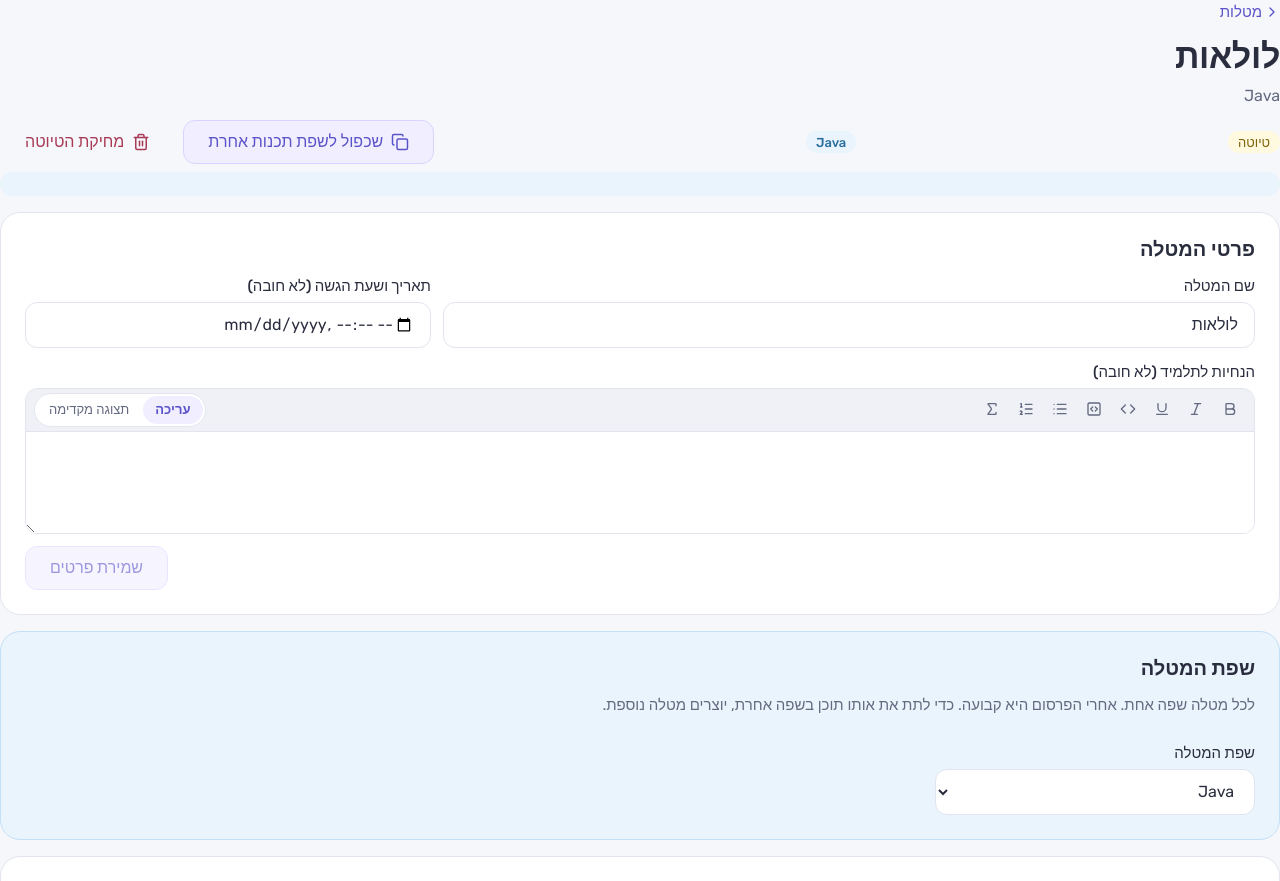
C3 — clone to another programming language › only other course languages are offered; success creates a draft and navigates to it with a toast
What coordinates should you click on to do the following:
click the button "שכפול לשפת תכנות אחרת"
I would click on:
 (309, 142)
Its box is [183, 120, 434, 164].
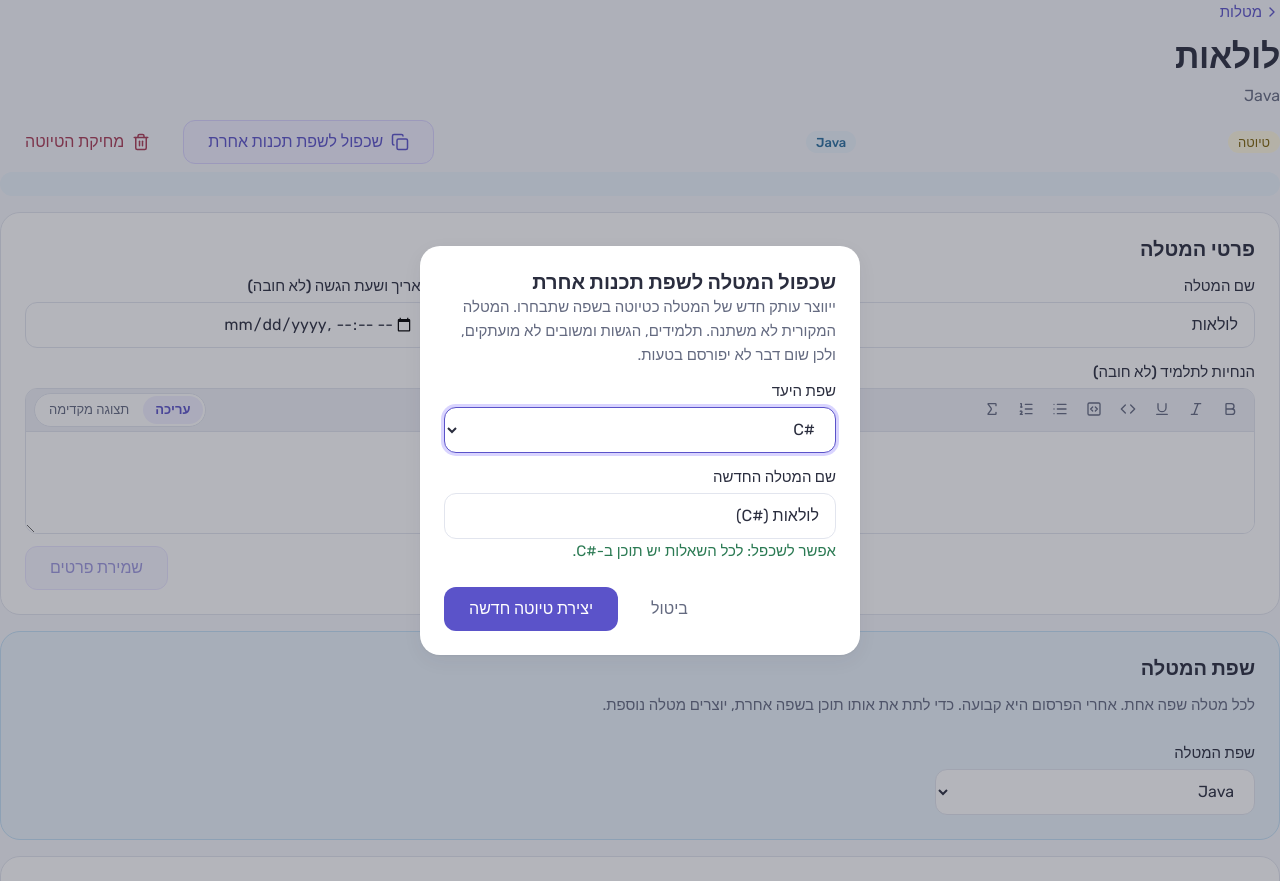
Now the text "אפשר לשכפל: לכל השאלות יש תוכן ב- C# ." is shown, box [573, 542, 836, 560]
What coordinates should you click on to do the following:
click the button "יצירת טיוטה חדשה"
I would click on:
 (531, 608)
Its box is [444, 586, 618, 630].
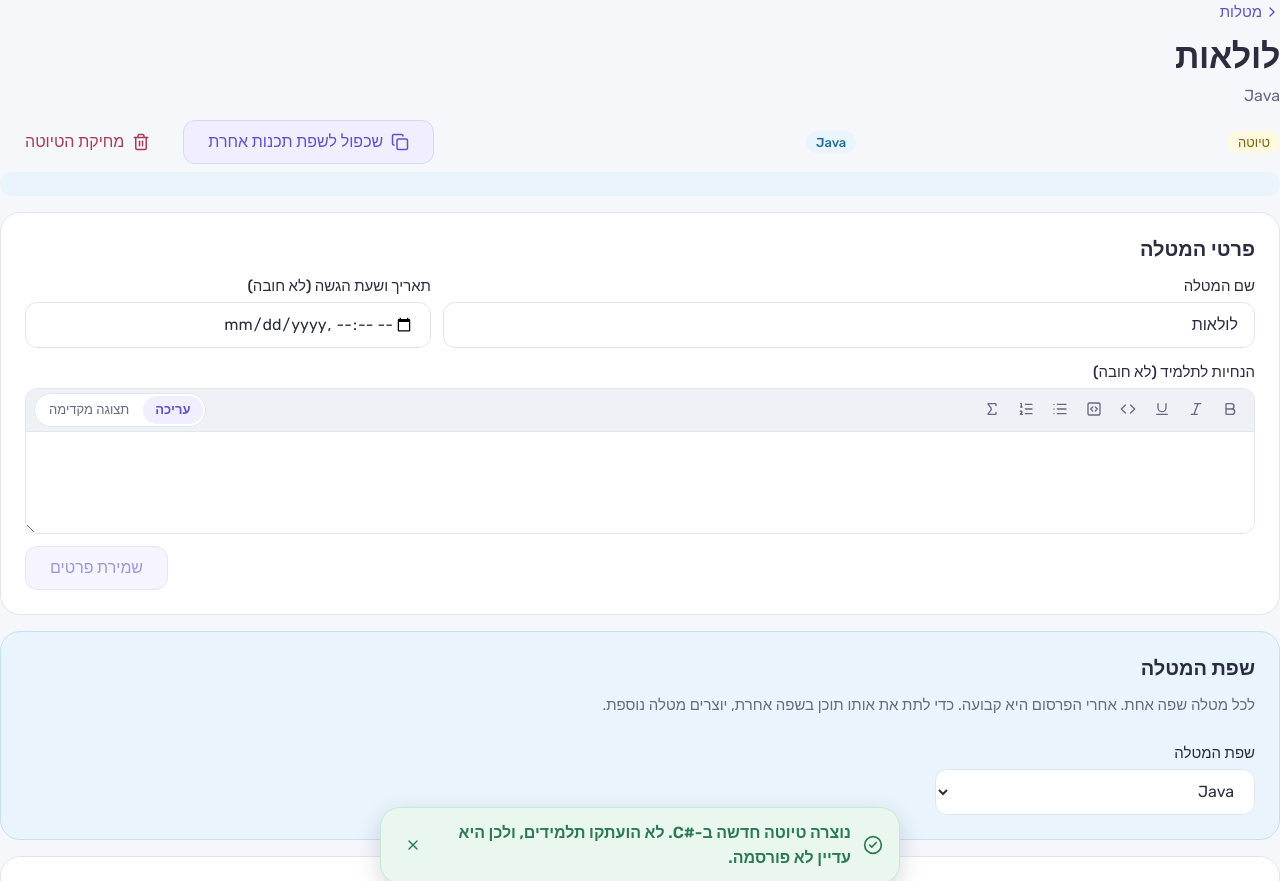
Now the text "נוצרה טיוטה חדשה" is shown, box [458, 823, 851, 867]
